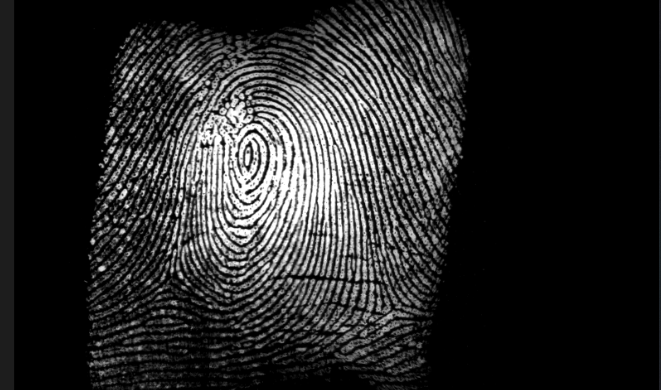nucelo: (233, 126, 260, 184)
verticilo: (143, 264, 198, 295), (374, 294, 409, 321)
